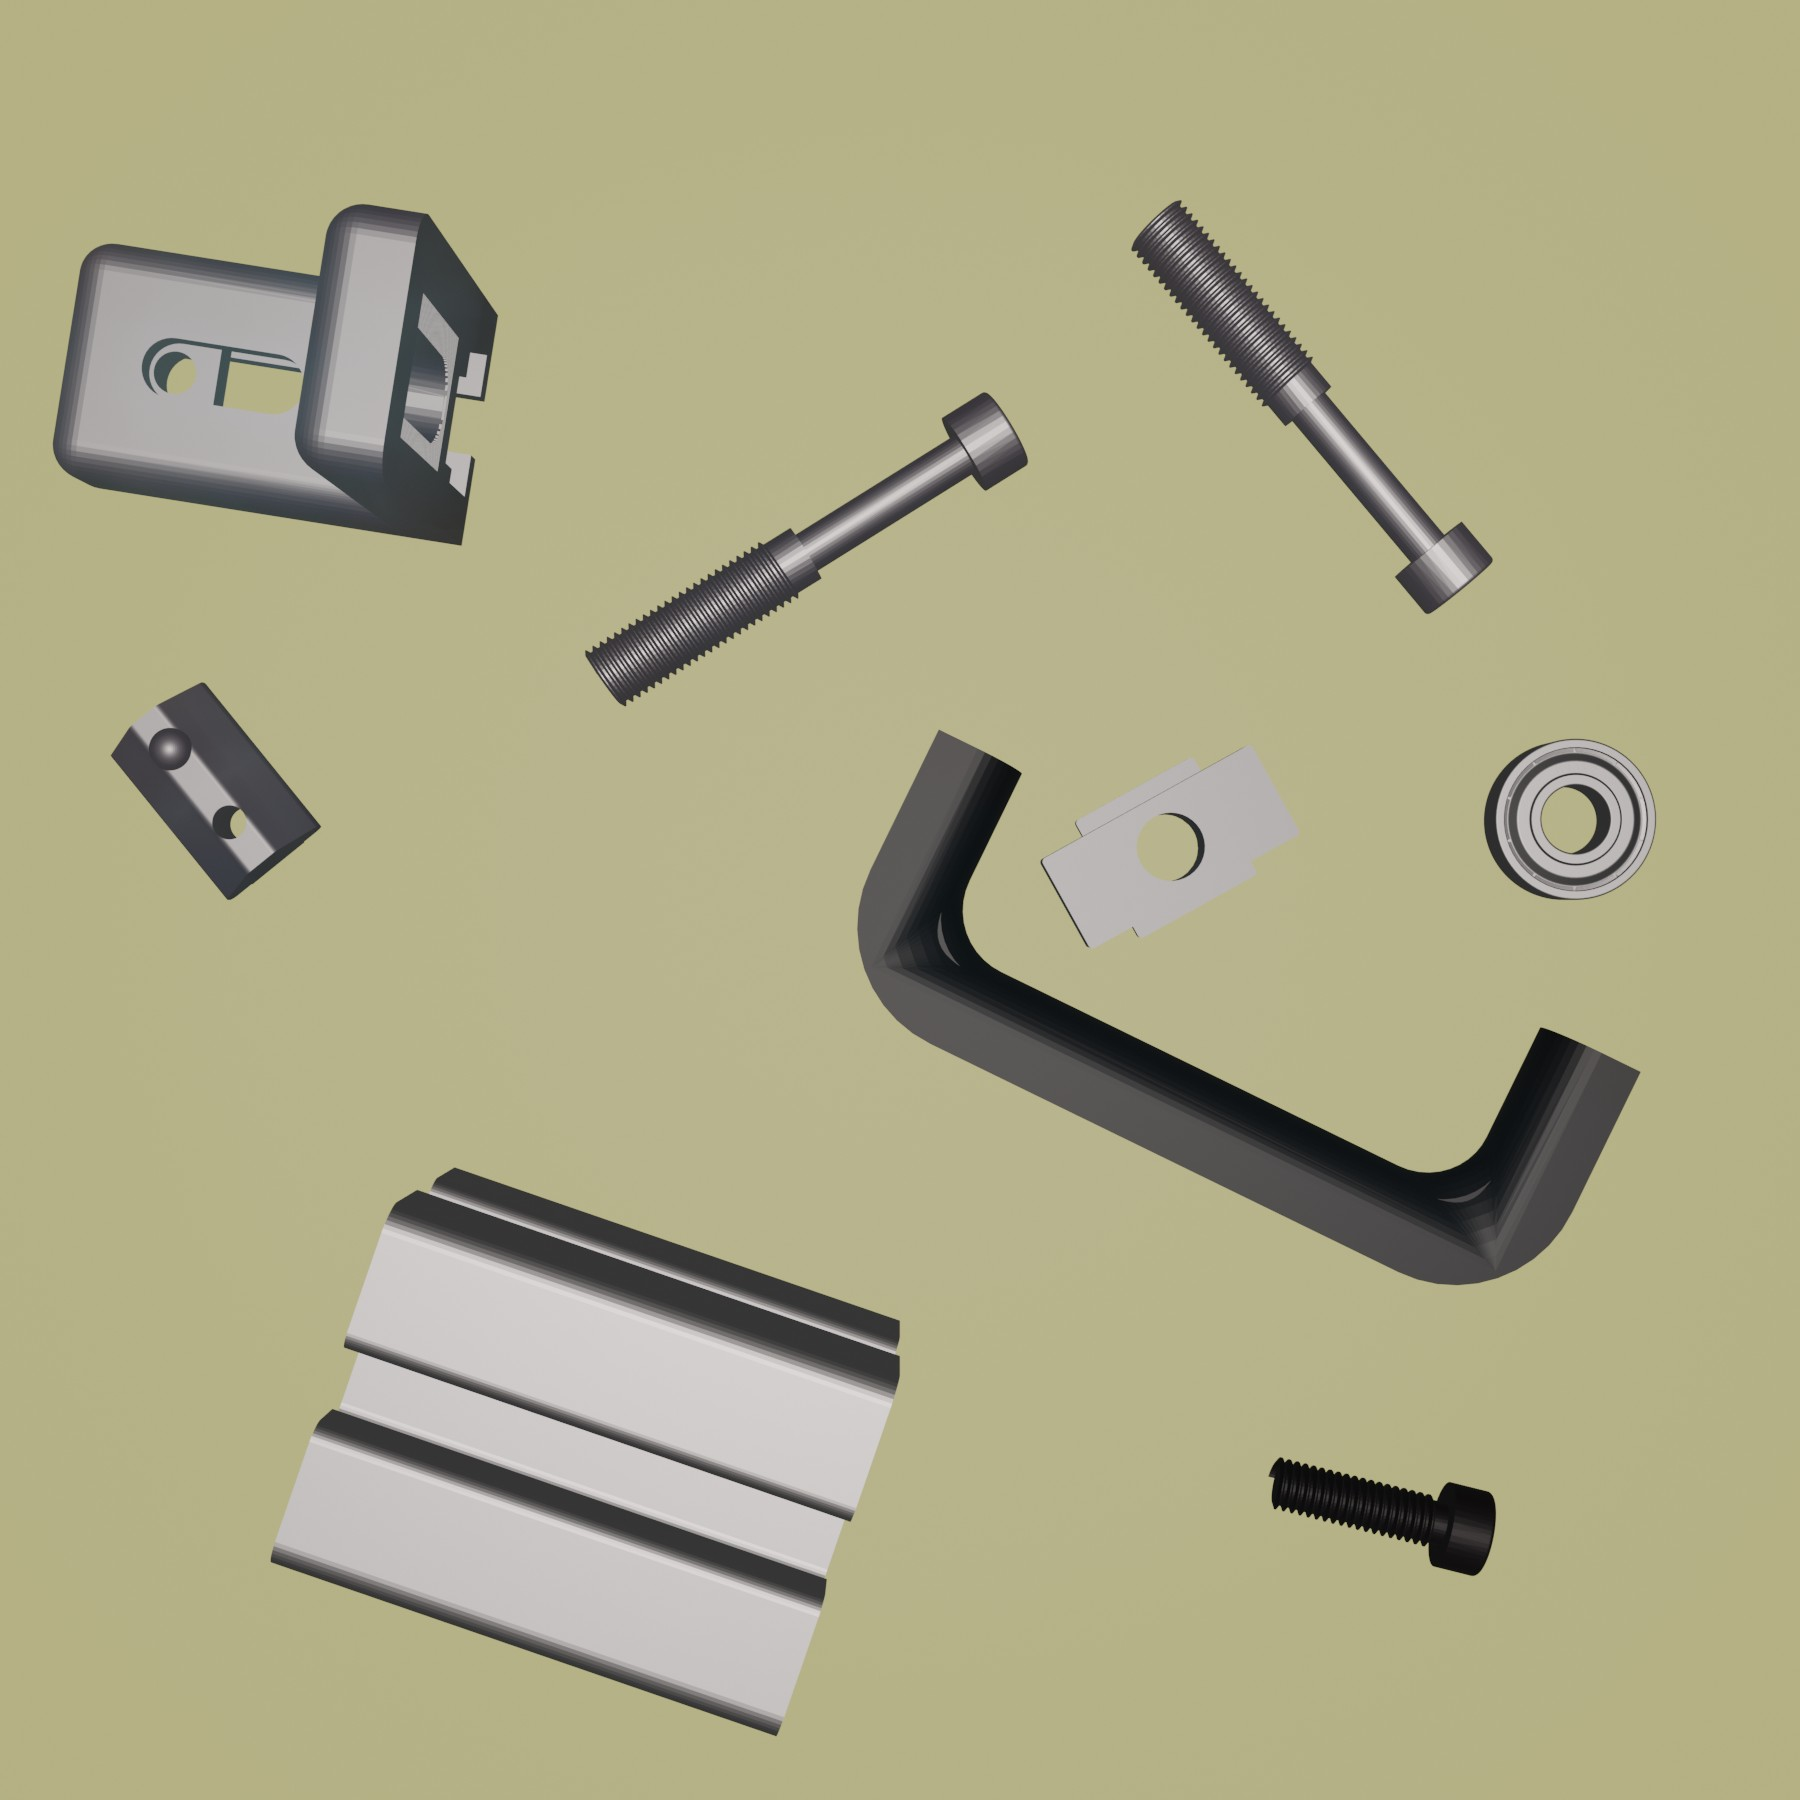Aluminium Extension: (264, 1160, 902, 1742)
Ball Bearing: (1480, 735, 1658, 903)
Multiwinkel: (51, 203, 501, 549)
Pull Handle: (854, 724, 1642, 1289)
Shoulder Socket Head Cap Screw: (1127, 195, 1497, 616), (582, 389, 1032, 709)
Socket Head Cap Screw: (1263, 1451, 1497, 1577)
T Nut Square: (1038, 743, 1305, 954)
T Spring Nut: (105, 677, 323, 902)
